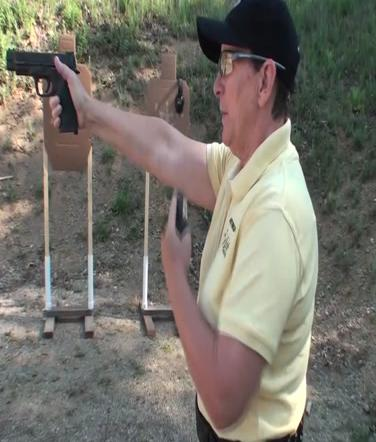pistol: (4, 46, 83, 135)
